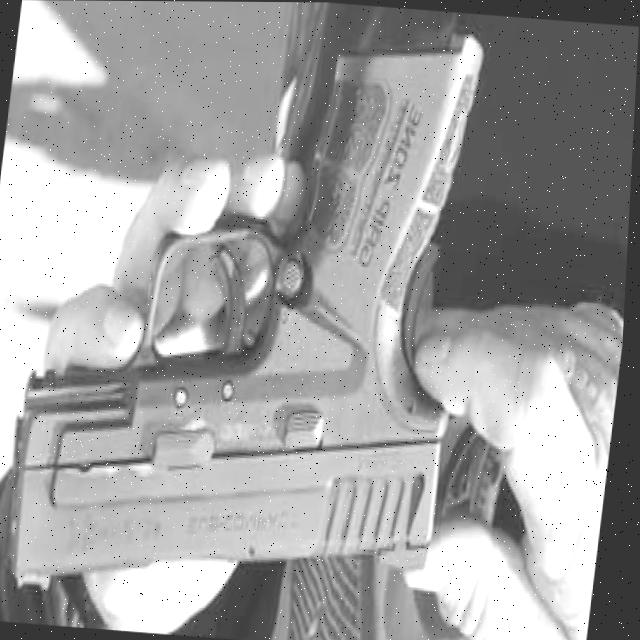pistol: (2, 4, 493, 617)
